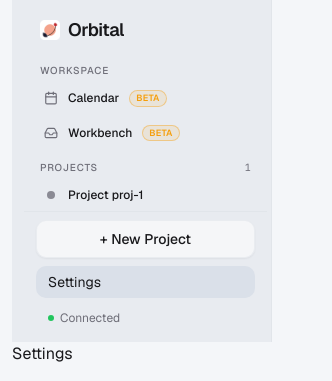
Test: Global settings nav (settings in Route union) › starting a new project from settings navigates to the create view
Expected: the text "Settings" is shown, top-left (12, 343), bottom-right (73, 364)
Click the button "+ New Project".
click(146, 239)  # box top-left (36, 220), bottom-right (255, 258)
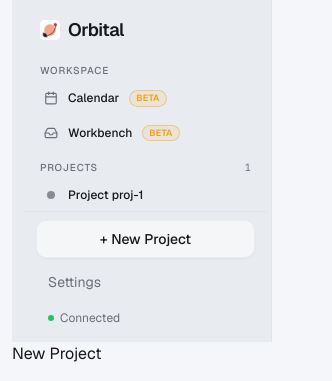
Expected: the text with test id "settings-view" is gone
Expected: the text "New Project" is shown, top-left (12, 343), bottom-right (101, 364)
